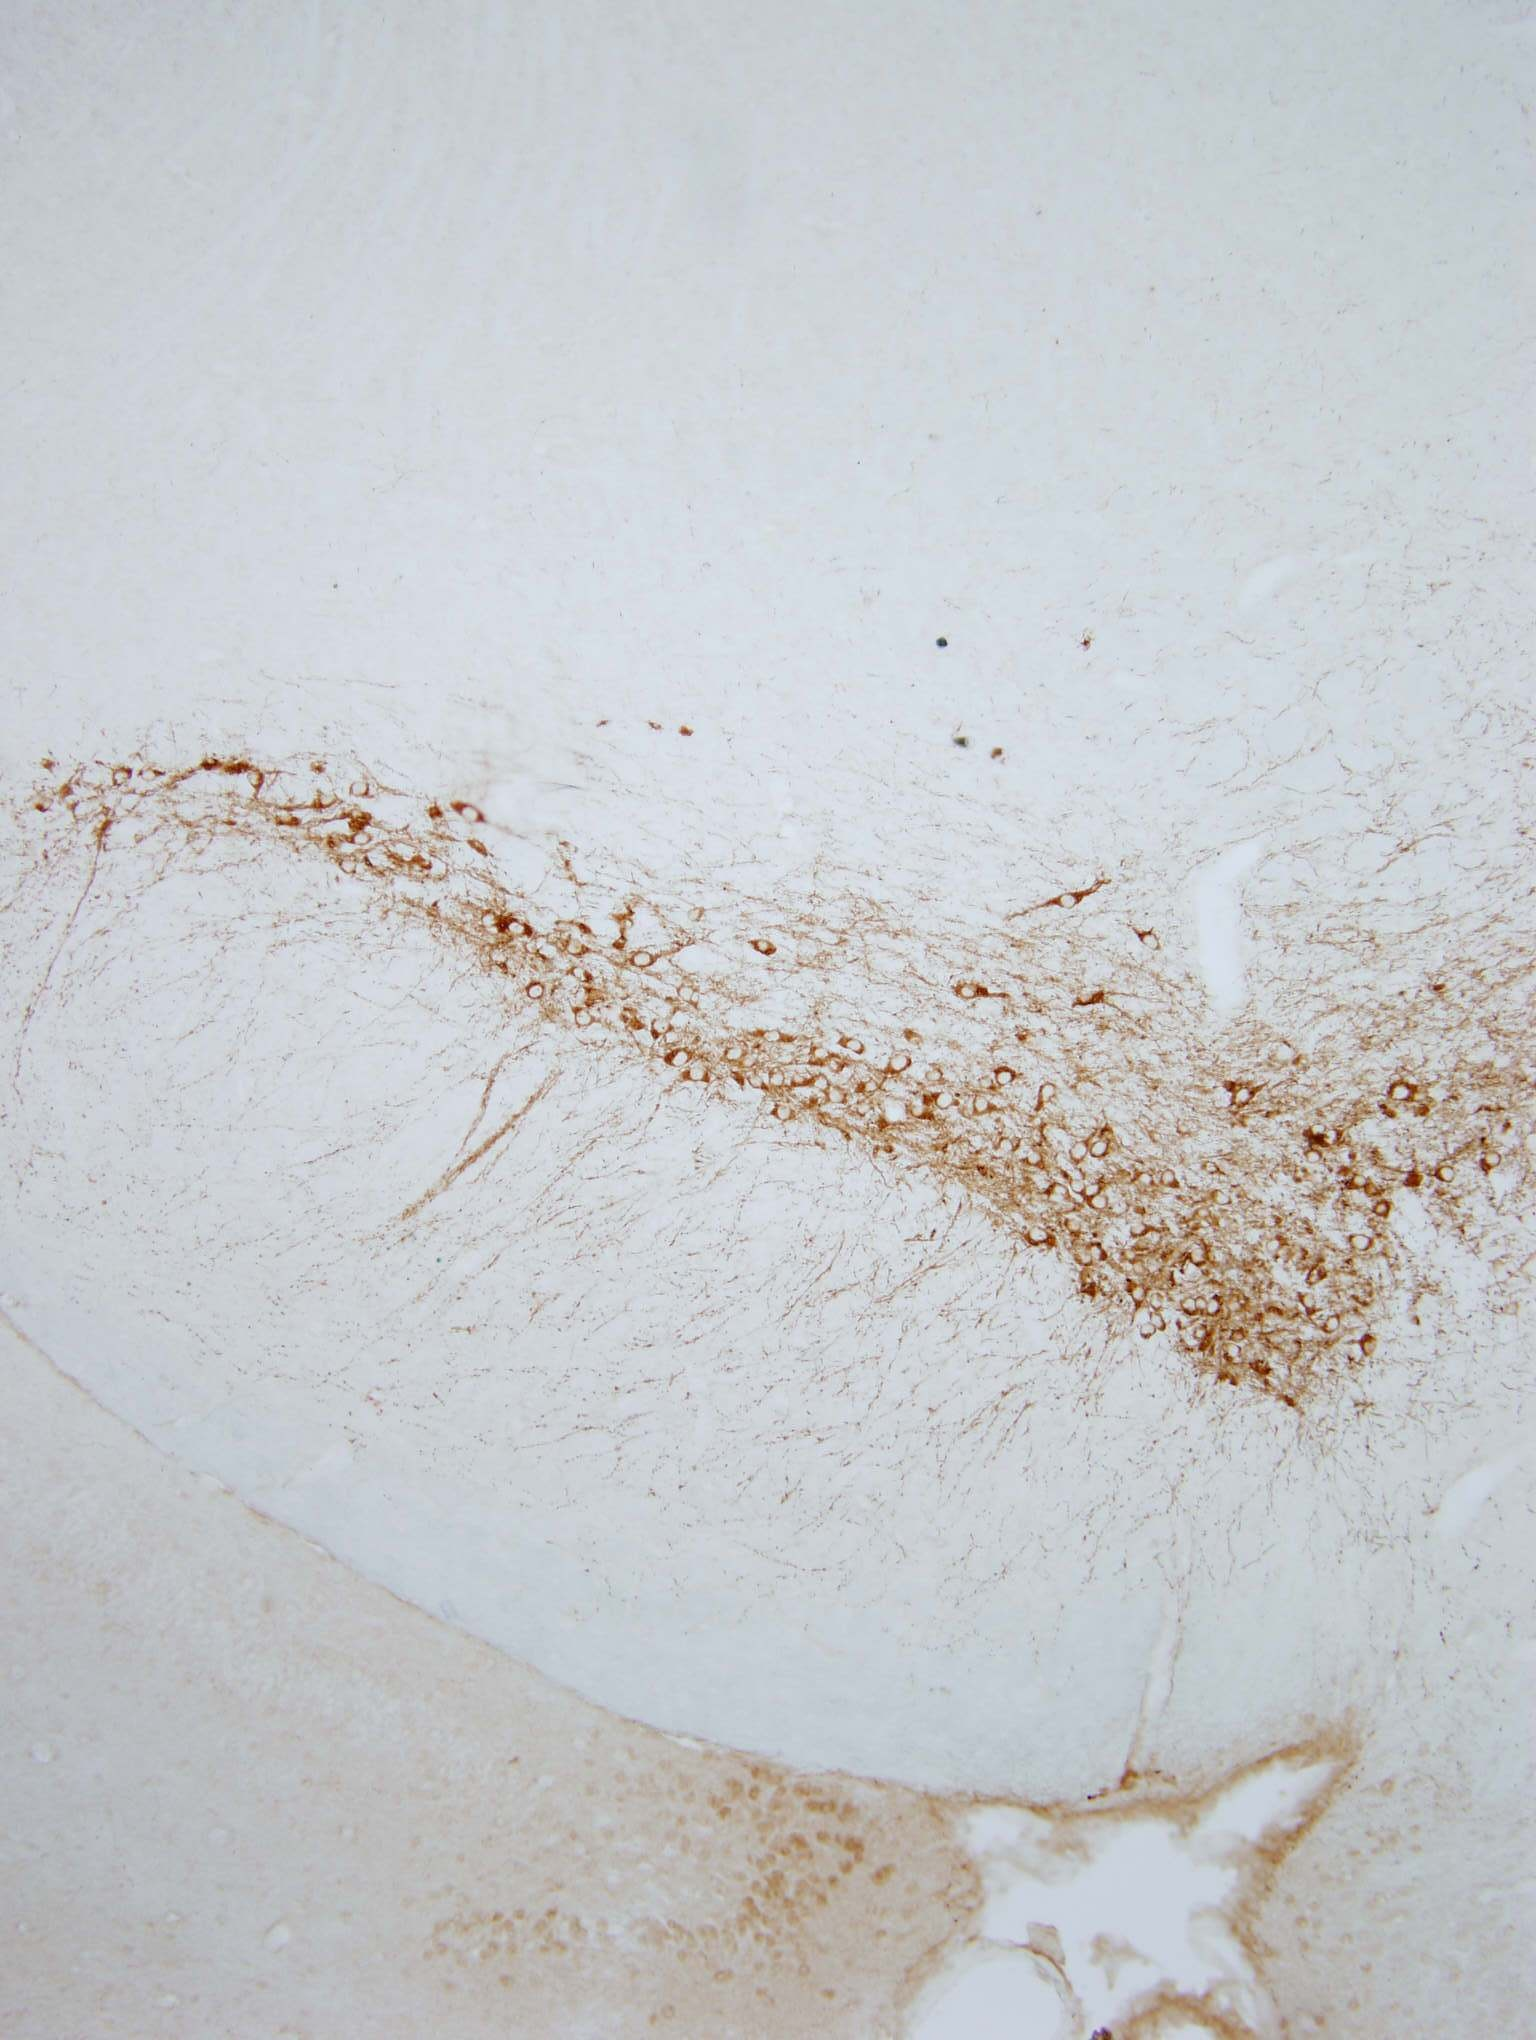neuron: (103, 756, 140, 793), (1217, 1335, 1254, 1372), (1225, 1077, 1262, 1114), (1430, 1156, 1467, 1193), (499, 910, 536, 947), (850, 1068, 887, 1105), (954, 976, 991, 1013), (1054, 882, 1091, 918), (1087, 1130, 1123, 1168), (1120, 1277, 1155, 1314), (1183, 1237, 1220, 1272), (1250, 1201, 1286, 1239), (1317, 1305, 1354, 1340), (1344, 1226, 1379, 1263), (1363, 1193, 1400, 1229), (137, 756, 173, 793), (1475, 1143, 1512, 1179), (244, 760, 279, 797), (311, 782, 349, 818), (566, 998, 602, 1035), (642, 1010, 678, 1047), (749, 927, 784, 964), (757, 1019, 792, 1056), (766, 1097, 803, 1132), (803, 1039, 841, 1074), (837, 1027, 874, 1063), (928, 1080, 963, 1118), (1020, 1219, 1055, 1255), (1029, 1076, 1065, 1111), (1042, 1174, 1078, 1209), (1062, 1135, 1097, 1171), (1075, 984, 1110, 1019), (1131, 921, 1167, 956), (1300, 1258, 1336, 1293), (1352, 1324, 1388, 1359), (1386, 1076, 1421, 1111), (345, 771, 381, 806), (450, 795, 486, 831), (558, 930, 594, 966), (628, 943, 663, 979), (662, 1040, 697, 1076), (682, 1063, 718, 1098), (720, 1037, 755, 1072), (760, 1058, 795, 1093), (881, 1048, 916, 1084), (968, 1090, 1004, 1126), (989, 1055, 1025, 1090), (1025, 1147, 1049, 1171), (1066, 1174, 1091, 1198), (1083, 1177, 1107, 1201), (1086, 1239, 1110, 1263), (1087, 1193, 1112, 1218), (1129, 1259, 1154, 1284), (1137, 1168, 1162, 1192), (1147, 1309, 1171, 1334), (1158, 1168, 1183, 1192), (1175, 1295, 1199, 1319), (1191, 1322, 1215, 1347), (1192, 1203, 1217, 1227), (1202, 1156, 1226, 1180), (1205, 1297, 1229, 1321), (1212, 1187, 1236, 1211), (1304, 1118, 1328, 1142), (1321, 1129, 1346, 1153), (1350, 1168, 1375, 1192), (570, 963, 594, 987), (686, 903, 710, 927), (744, 1071, 768, 1095), (812, 1072, 836, 1097), (828, 1085, 852, 1110), (912, 1098, 936, 1122), (1062, 1214, 1084, 1239), (1120, 1243, 1142, 1268), (1129, 1221, 1154, 1243), (1134, 1321, 1158, 1343), (1191, 1293, 1213, 1318), (1297, 1292, 1321, 1314), (1304, 1147, 1326, 1171), (337, 855, 361, 877), (352, 827, 374, 851), (994, 1134, 1018, 1156)
